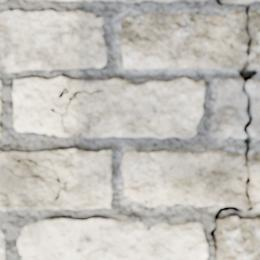brick: (13, 77, 204, 137), (18, 218, 207, 259), (0, 149, 111, 210), (0, 10, 105, 71), (217, 217, 259, 259), (0, 233, 5, 259), (227, 0, 253, 2), (0, 81, 1, 112), (110, 0, 140, 1), (154, 0, 174, 1)
broken_brick: (120, 9, 246, 69), (120, 149, 248, 208), (215, 78, 246, 138), (247, 79, 259, 139), (249, 154, 259, 208), (250, 9, 259, 68)
crack: (209, 2, 259, 257), (48, 87, 104, 135), (215, 0, 228, 6)
